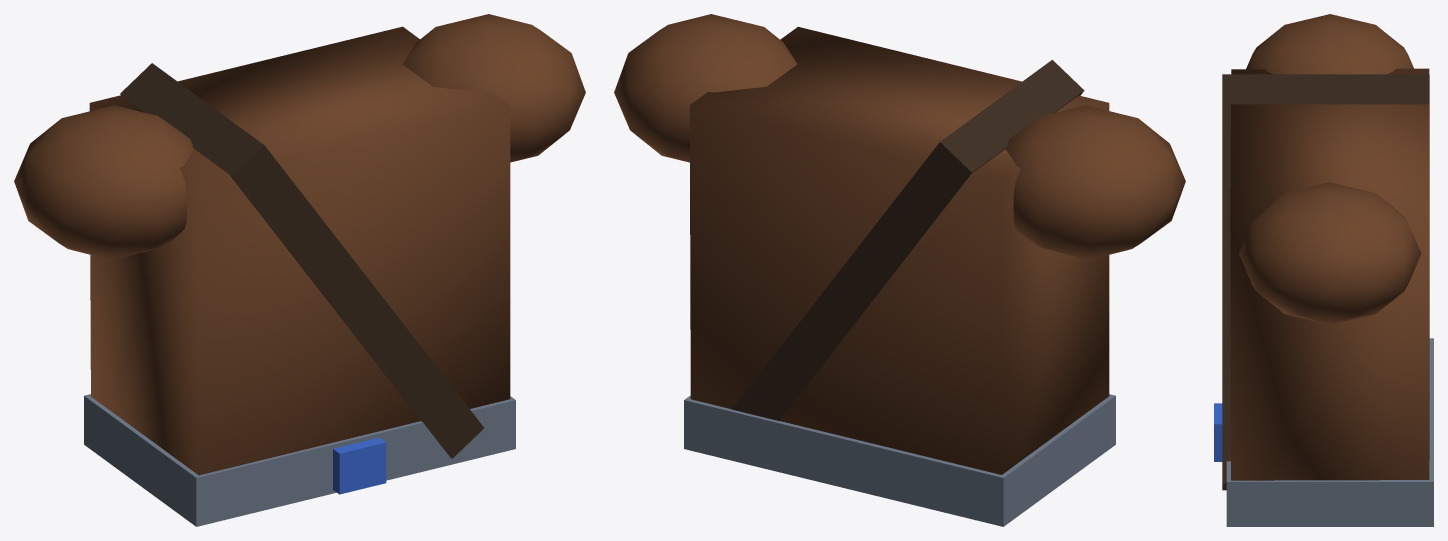
Rendered from armor_t2.glb.
3 renders of one model, left to right at view 1: azimuth 30°, elevation 25°; view 2: azimuth 150°, elevation 25°; view 3: azimuth 270°, elevation 25°, orthographic. The views are drawn at different scales.
Visible parts, largest first — view 1: item_leather2, item_strap, item_darkMetal2, item_trim2; view 2: item_leather2, item_darkMetal2, item_strap; view 3: item_leather2, item_darkMetal2, item_strap, item_trim2.
Part boxes in pixels (<box>): item_leather2: <box>14,14,585,475</box>; item_strap: <box>120,63,483,458</box>; item_darkMetal2: <box>84,394,515,526</box>; item_trim2: <box>333,437,386,494</box>; item_leather2: <box>614,14,1185,474</box>; item_darkMetal2: <box>684,394,1115,526</box>; item_strap: <box>732,59,1084,420</box>; item_leather2: <box>1230,14,1429,480</box>; item_darkMetal2: <box>1226,338,1433,526</box>; item_strap: <box>1222,74,1429,490</box>; item_trim2: <box>1214,403,1222,461</box>.
Bounding box in the file's own units: 0.7 × 0.4607 × 0.265.
